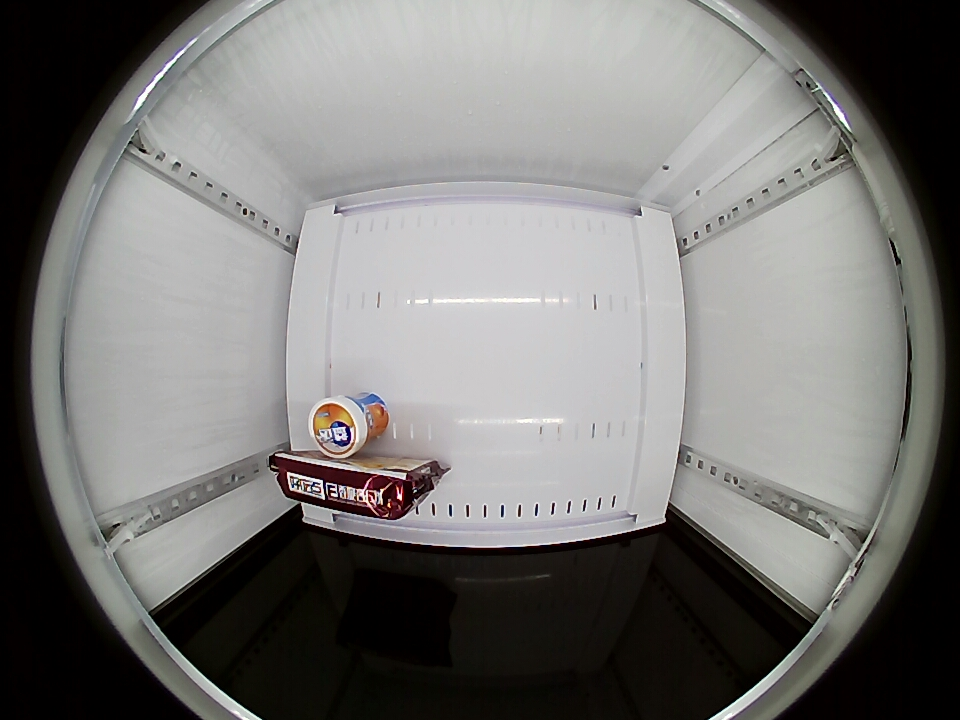haochidian: (270, 454, 417, 520)
